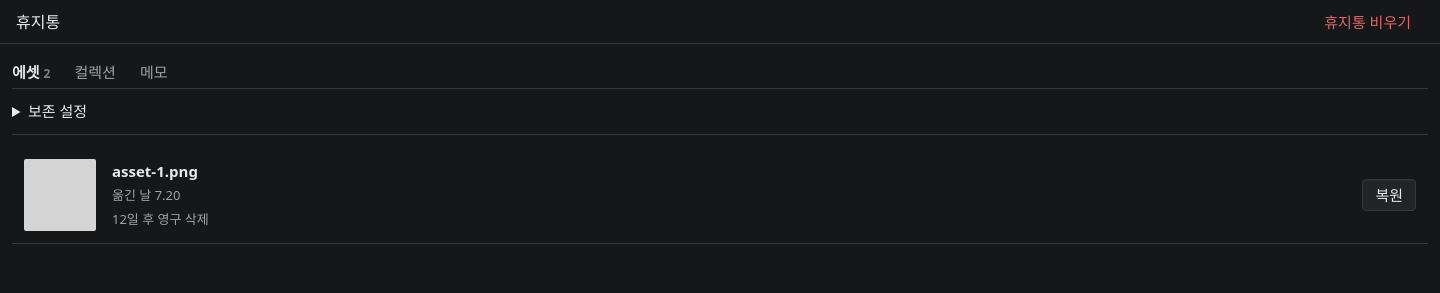
keeps retention controls disabled until the policy is loaded
Click the heading "보존 설정" at (57, 111), box [28,101,87,121]
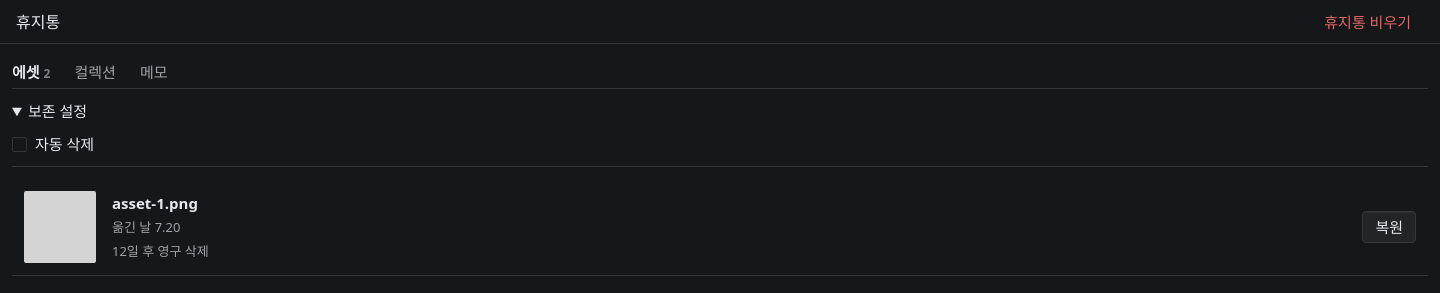
Result: the checkbox labelled "자동 삭제" is disabled at [12,136,27,152]
Result: the checkbox labelled "자동 삭제" is not checked at [12,136,27,152]
